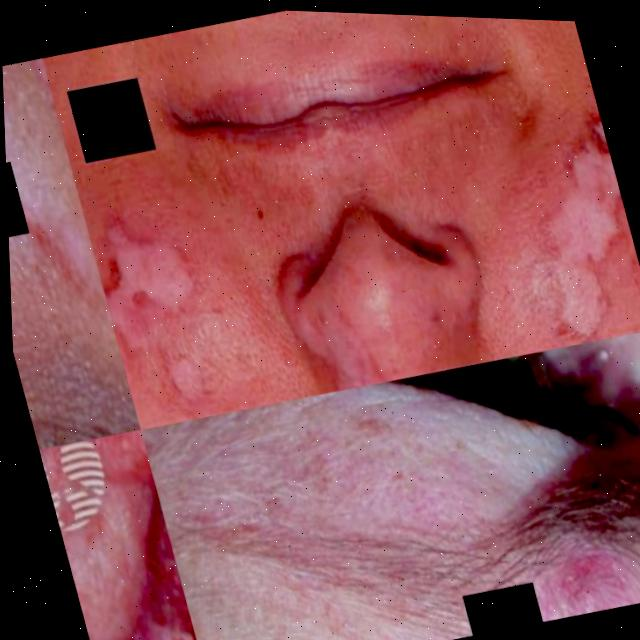lupus-detected: (65, 113, 322, 437), (441, 16, 640, 359), (2, 61, 115, 434), (37, 426, 206, 640), (322, 264, 501, 395), (486, 485, 640, 632), (40, 52, 91, 150)
